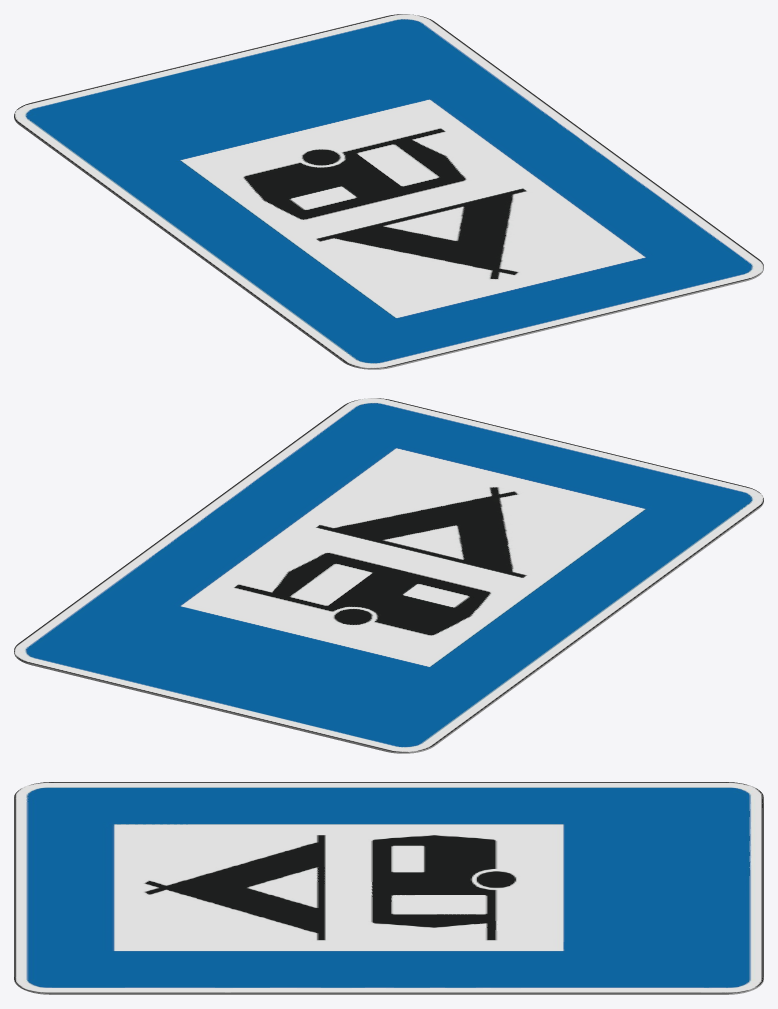
File: 365-60alt.obj
3 renders of one model, top to bottom at view 1: azimuth 30°, elevation 25°; view 2: azimuth 150°, elevation 25°; view 3: azimuth 270°, elevation 25°, orthographic. The views are drawn at different scales.
Parts seen in each view (by area): view 1: Plane; view 2: Plane; view 3: Plane.
Part boxes in pixels (x1,y1,x2,y2): Plane: (14, 14, 763, 369); Plane: (14, 398, 763, 753); Plane: (14, 782, 763, 994).
Bounding box in the file's own units: 0.6 × 0.002 × 0.9.
2 materials, 1 textured.
